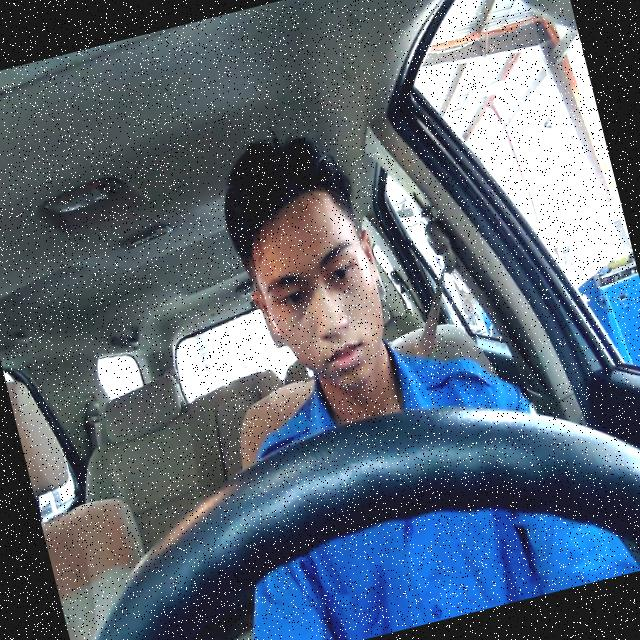focused: (227, 175, 405, 408)
